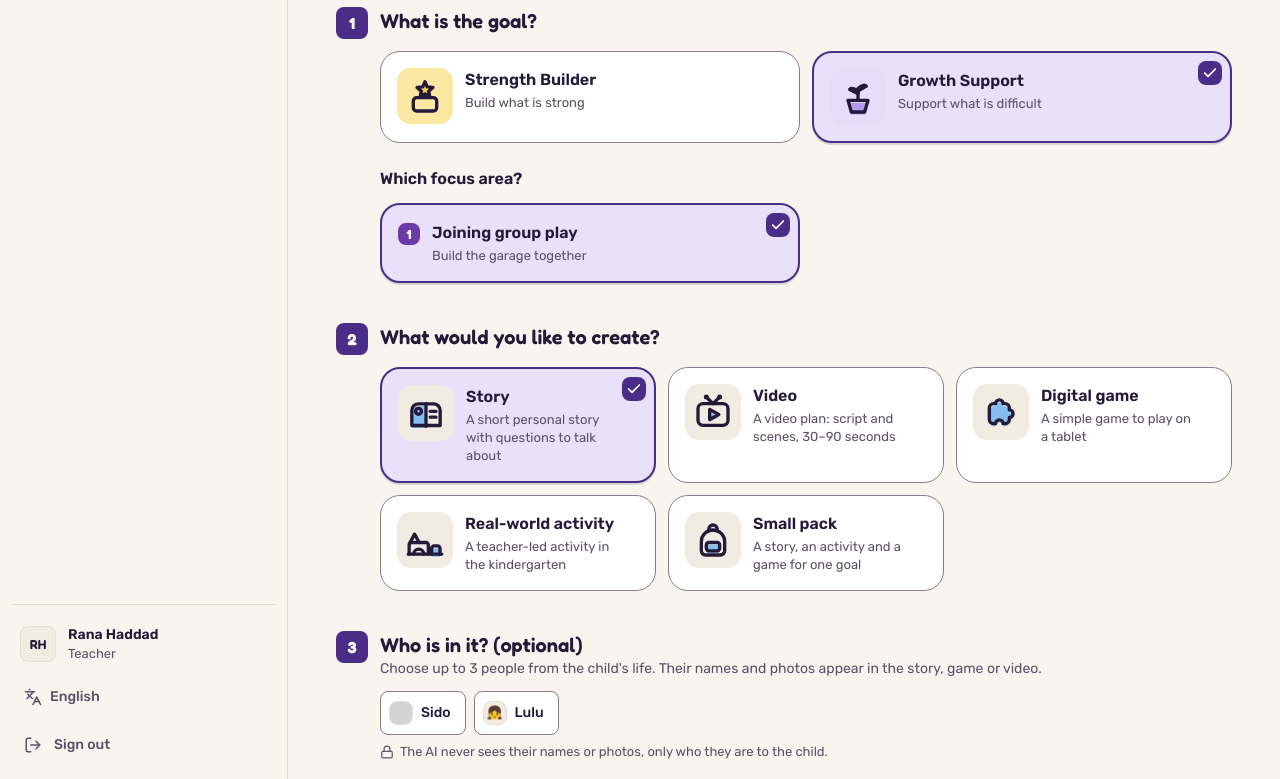
Test case: CreateContentPage › includes the chosen people of the child's life (at most 3), never by name
The width and height of the screenshot is (1280, 779).
Check: the text "The AI never sees their names or photos" is shown, box [400,744,828,759]
Click the button "Sido" at [423, 713], box [380,691,466,735]
(page scrolled)
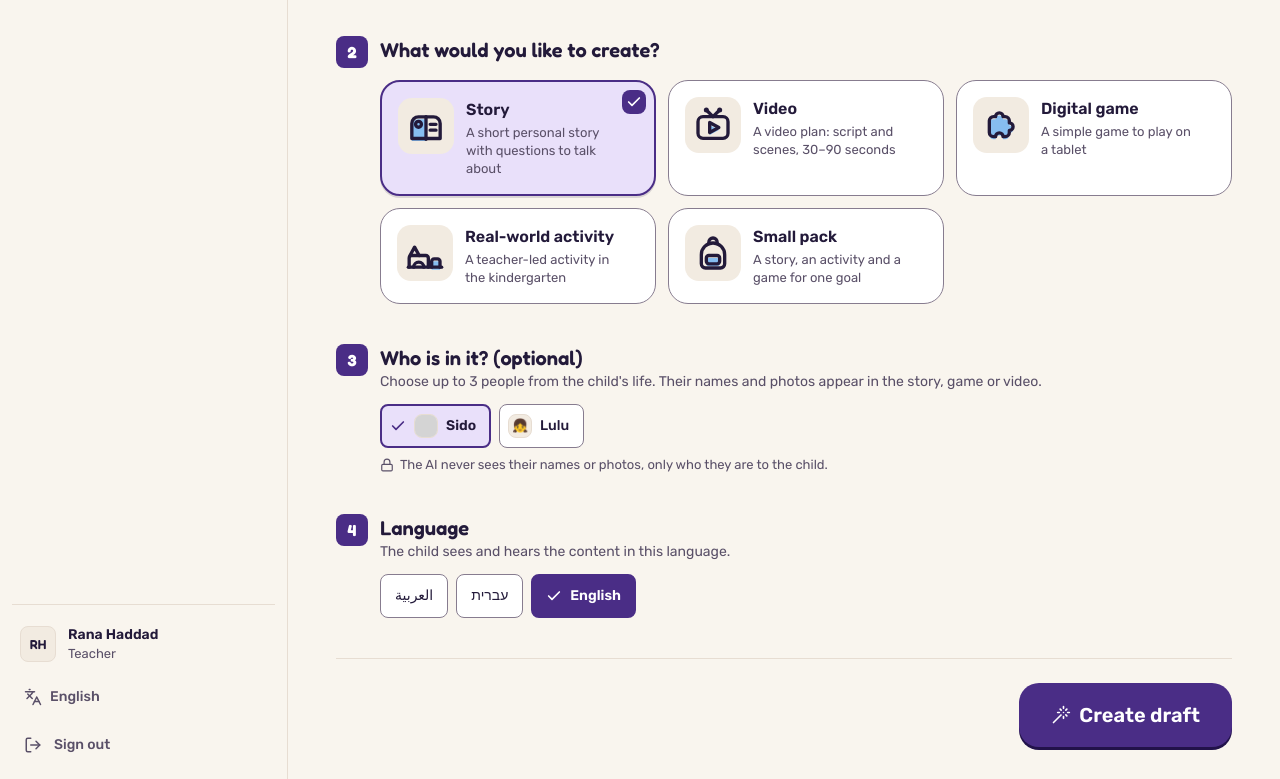
Check: the button "Sido" is pressed, box [380,404,491,448]
Click the button "Create draft" at [1126, 715], box [1019,683,1232,747]
(page scrolled)
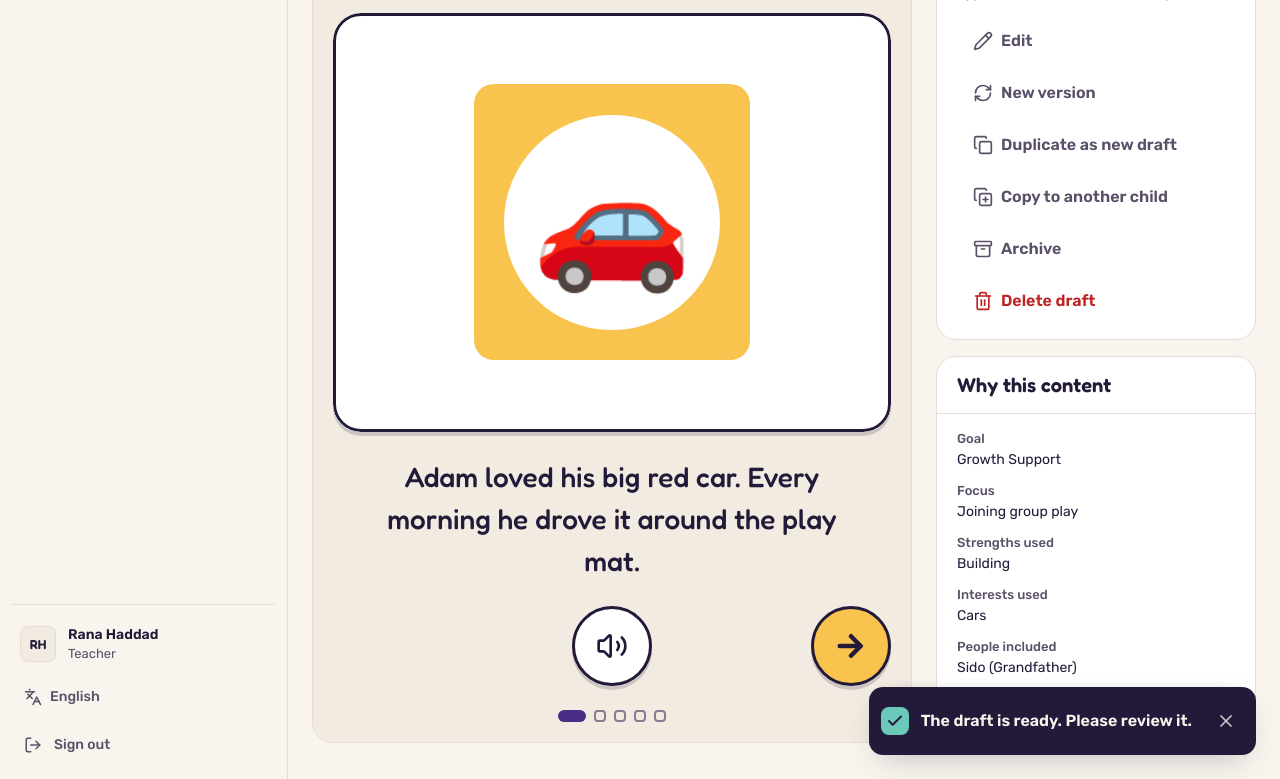
Check: the text with test id "why-people" reads "Sido (Grandfather)", box [957,659,1077,676]
